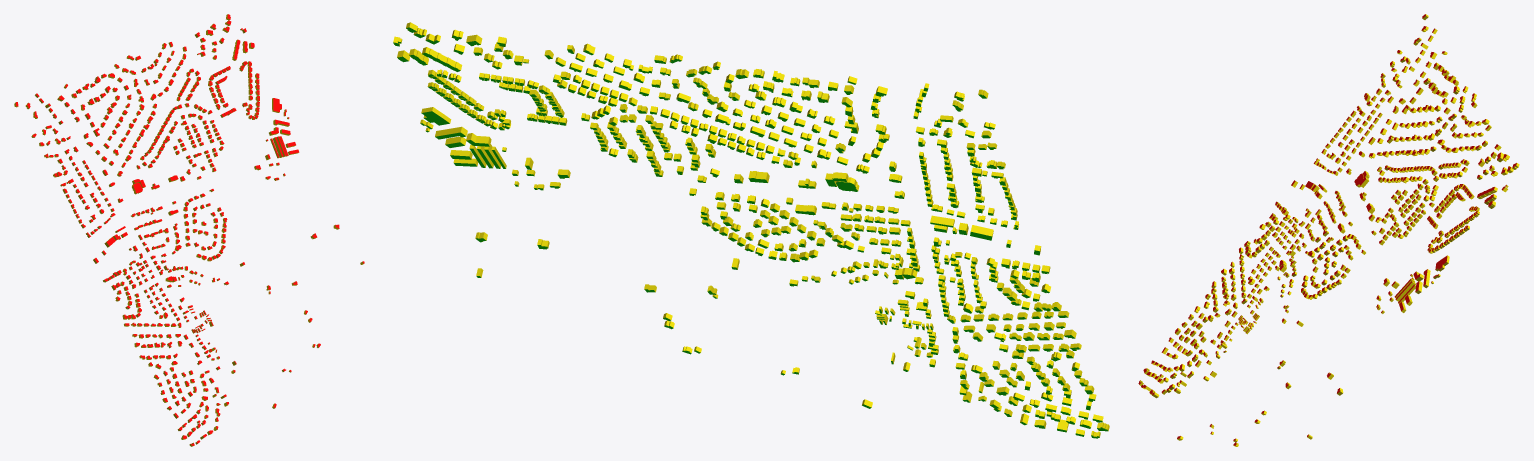
3 renders of one model, left to right at view 1: azimuth 30°, elevation 25°; view 2: azimuth 150°, elevation 25°; view 3: azimuth 270°, elevation 25°, orthographic. The views are drawn at different scales.
Parts seen in each view (by area): view 1: mesh; view 2: mesh; view 3: mesh.
Boxes of the visible parts, left/top/right/bottom form: mesh: left=14, top=14, right=364, bottom=446; mesh: left=393, top=22, right=1109, bottom=438; mesh: left=1138, top=14, right=1519, bottom=446.
Size of the model in its own units: 1754 by 1521 by 1564.
